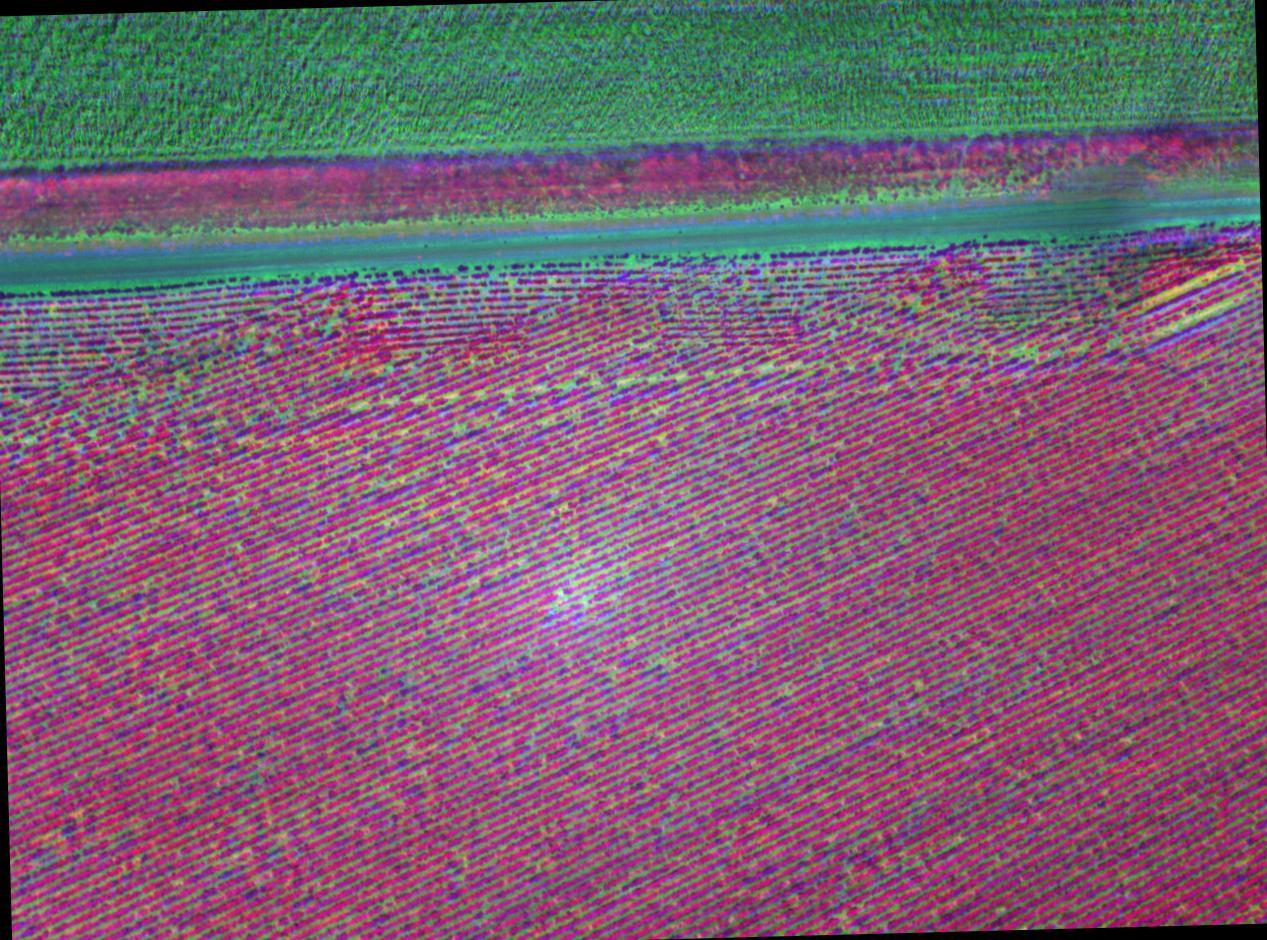dc: (1016, 347, 1022, 354), (1207, 310, 1213, 315), (762, 366, 768, 371), (667, 665, 670, 669)
